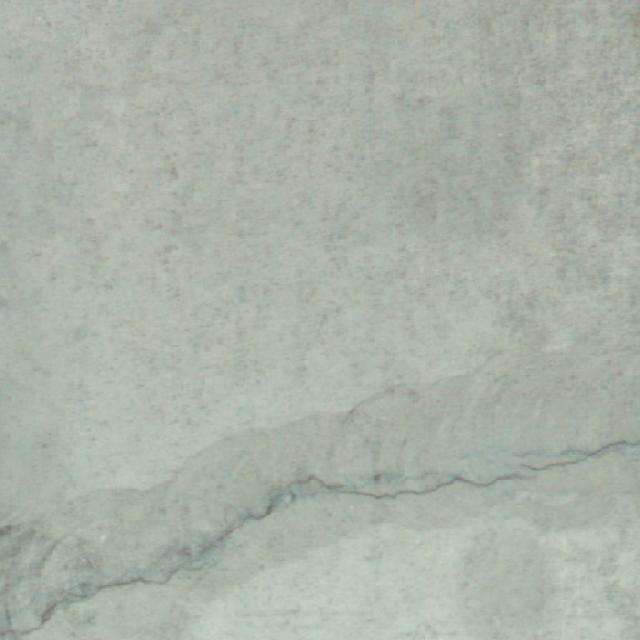Transverse: (1, 438, 640, 640)
